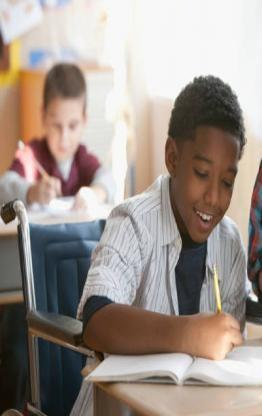good: (74, 64, 262, 397), (0, 57, 127, 237)
